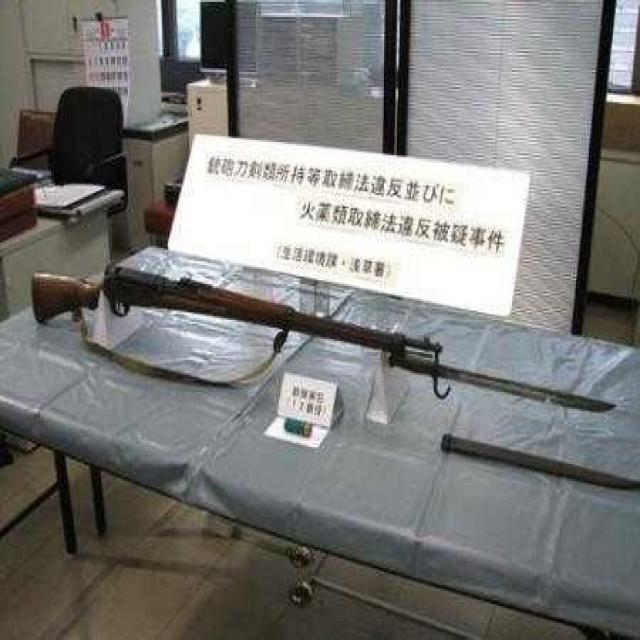weapon: (31, 258, 452, 384)
